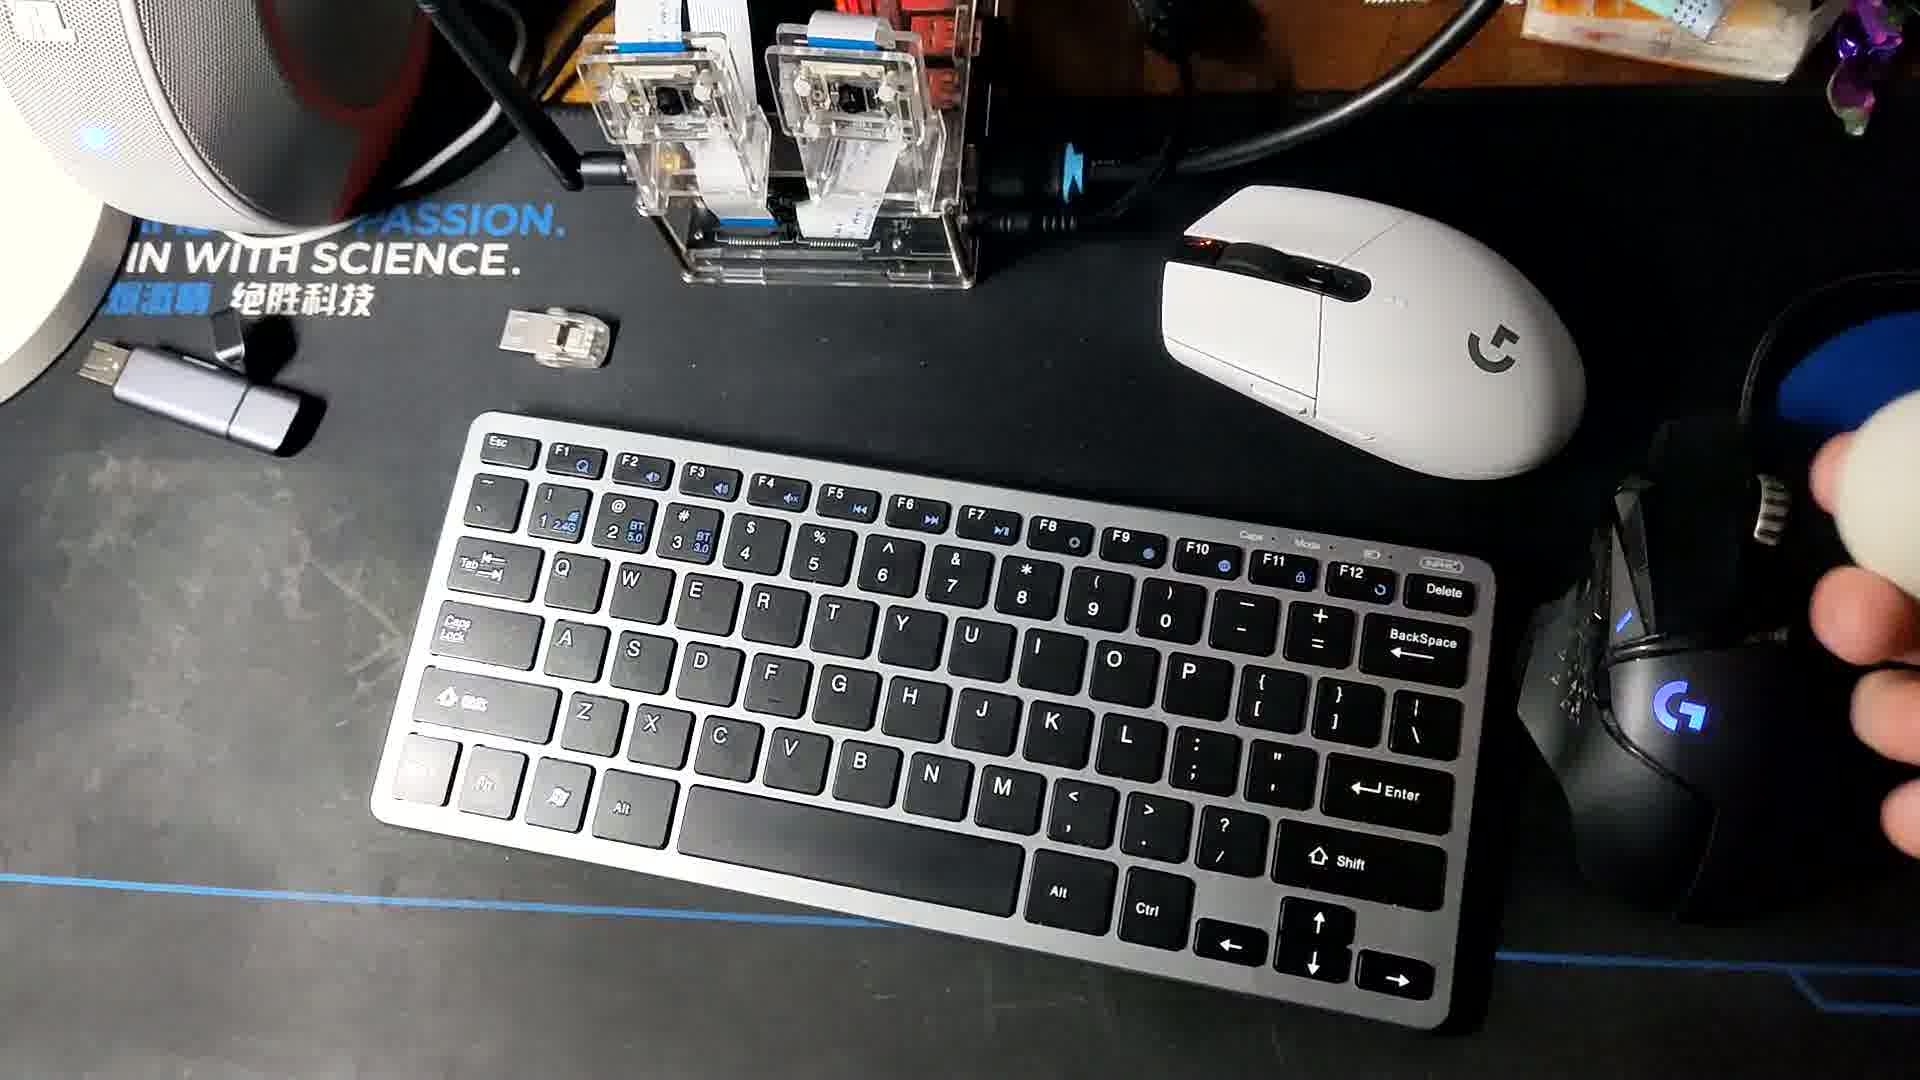Ball: (1837, 377, 1920, 603)
